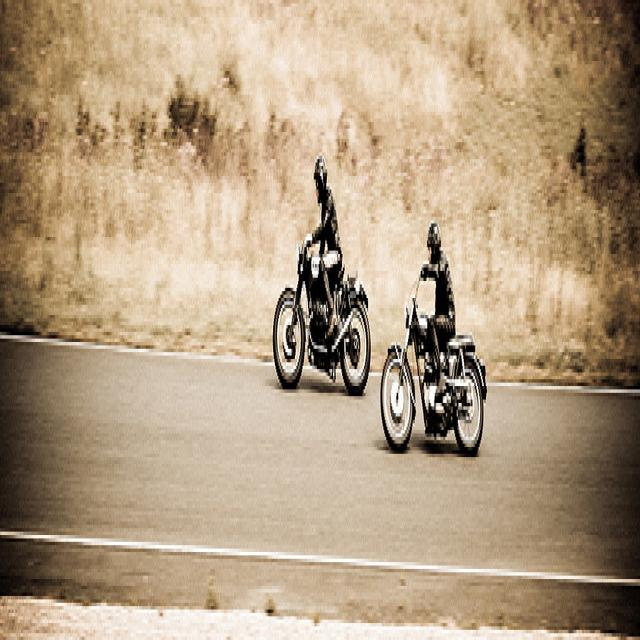motor: (379, 270, 489, 462), (271, 253, 372, 394)
